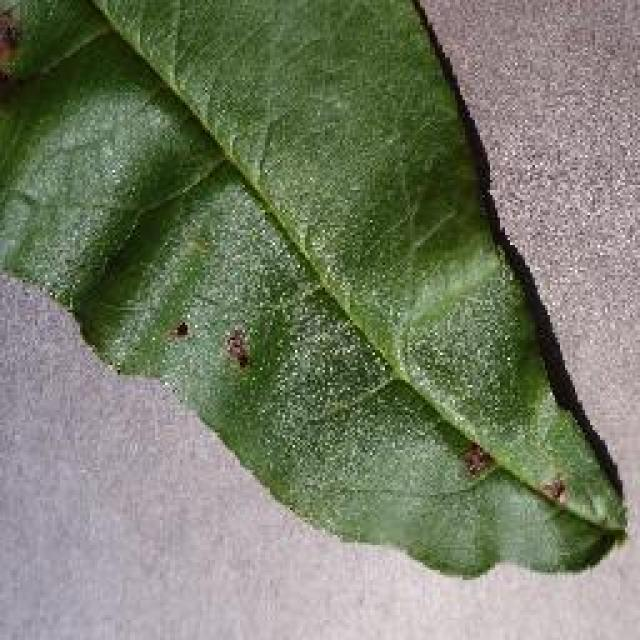Peach_Bacterial_Spot: (118, 155, 422, 397)
